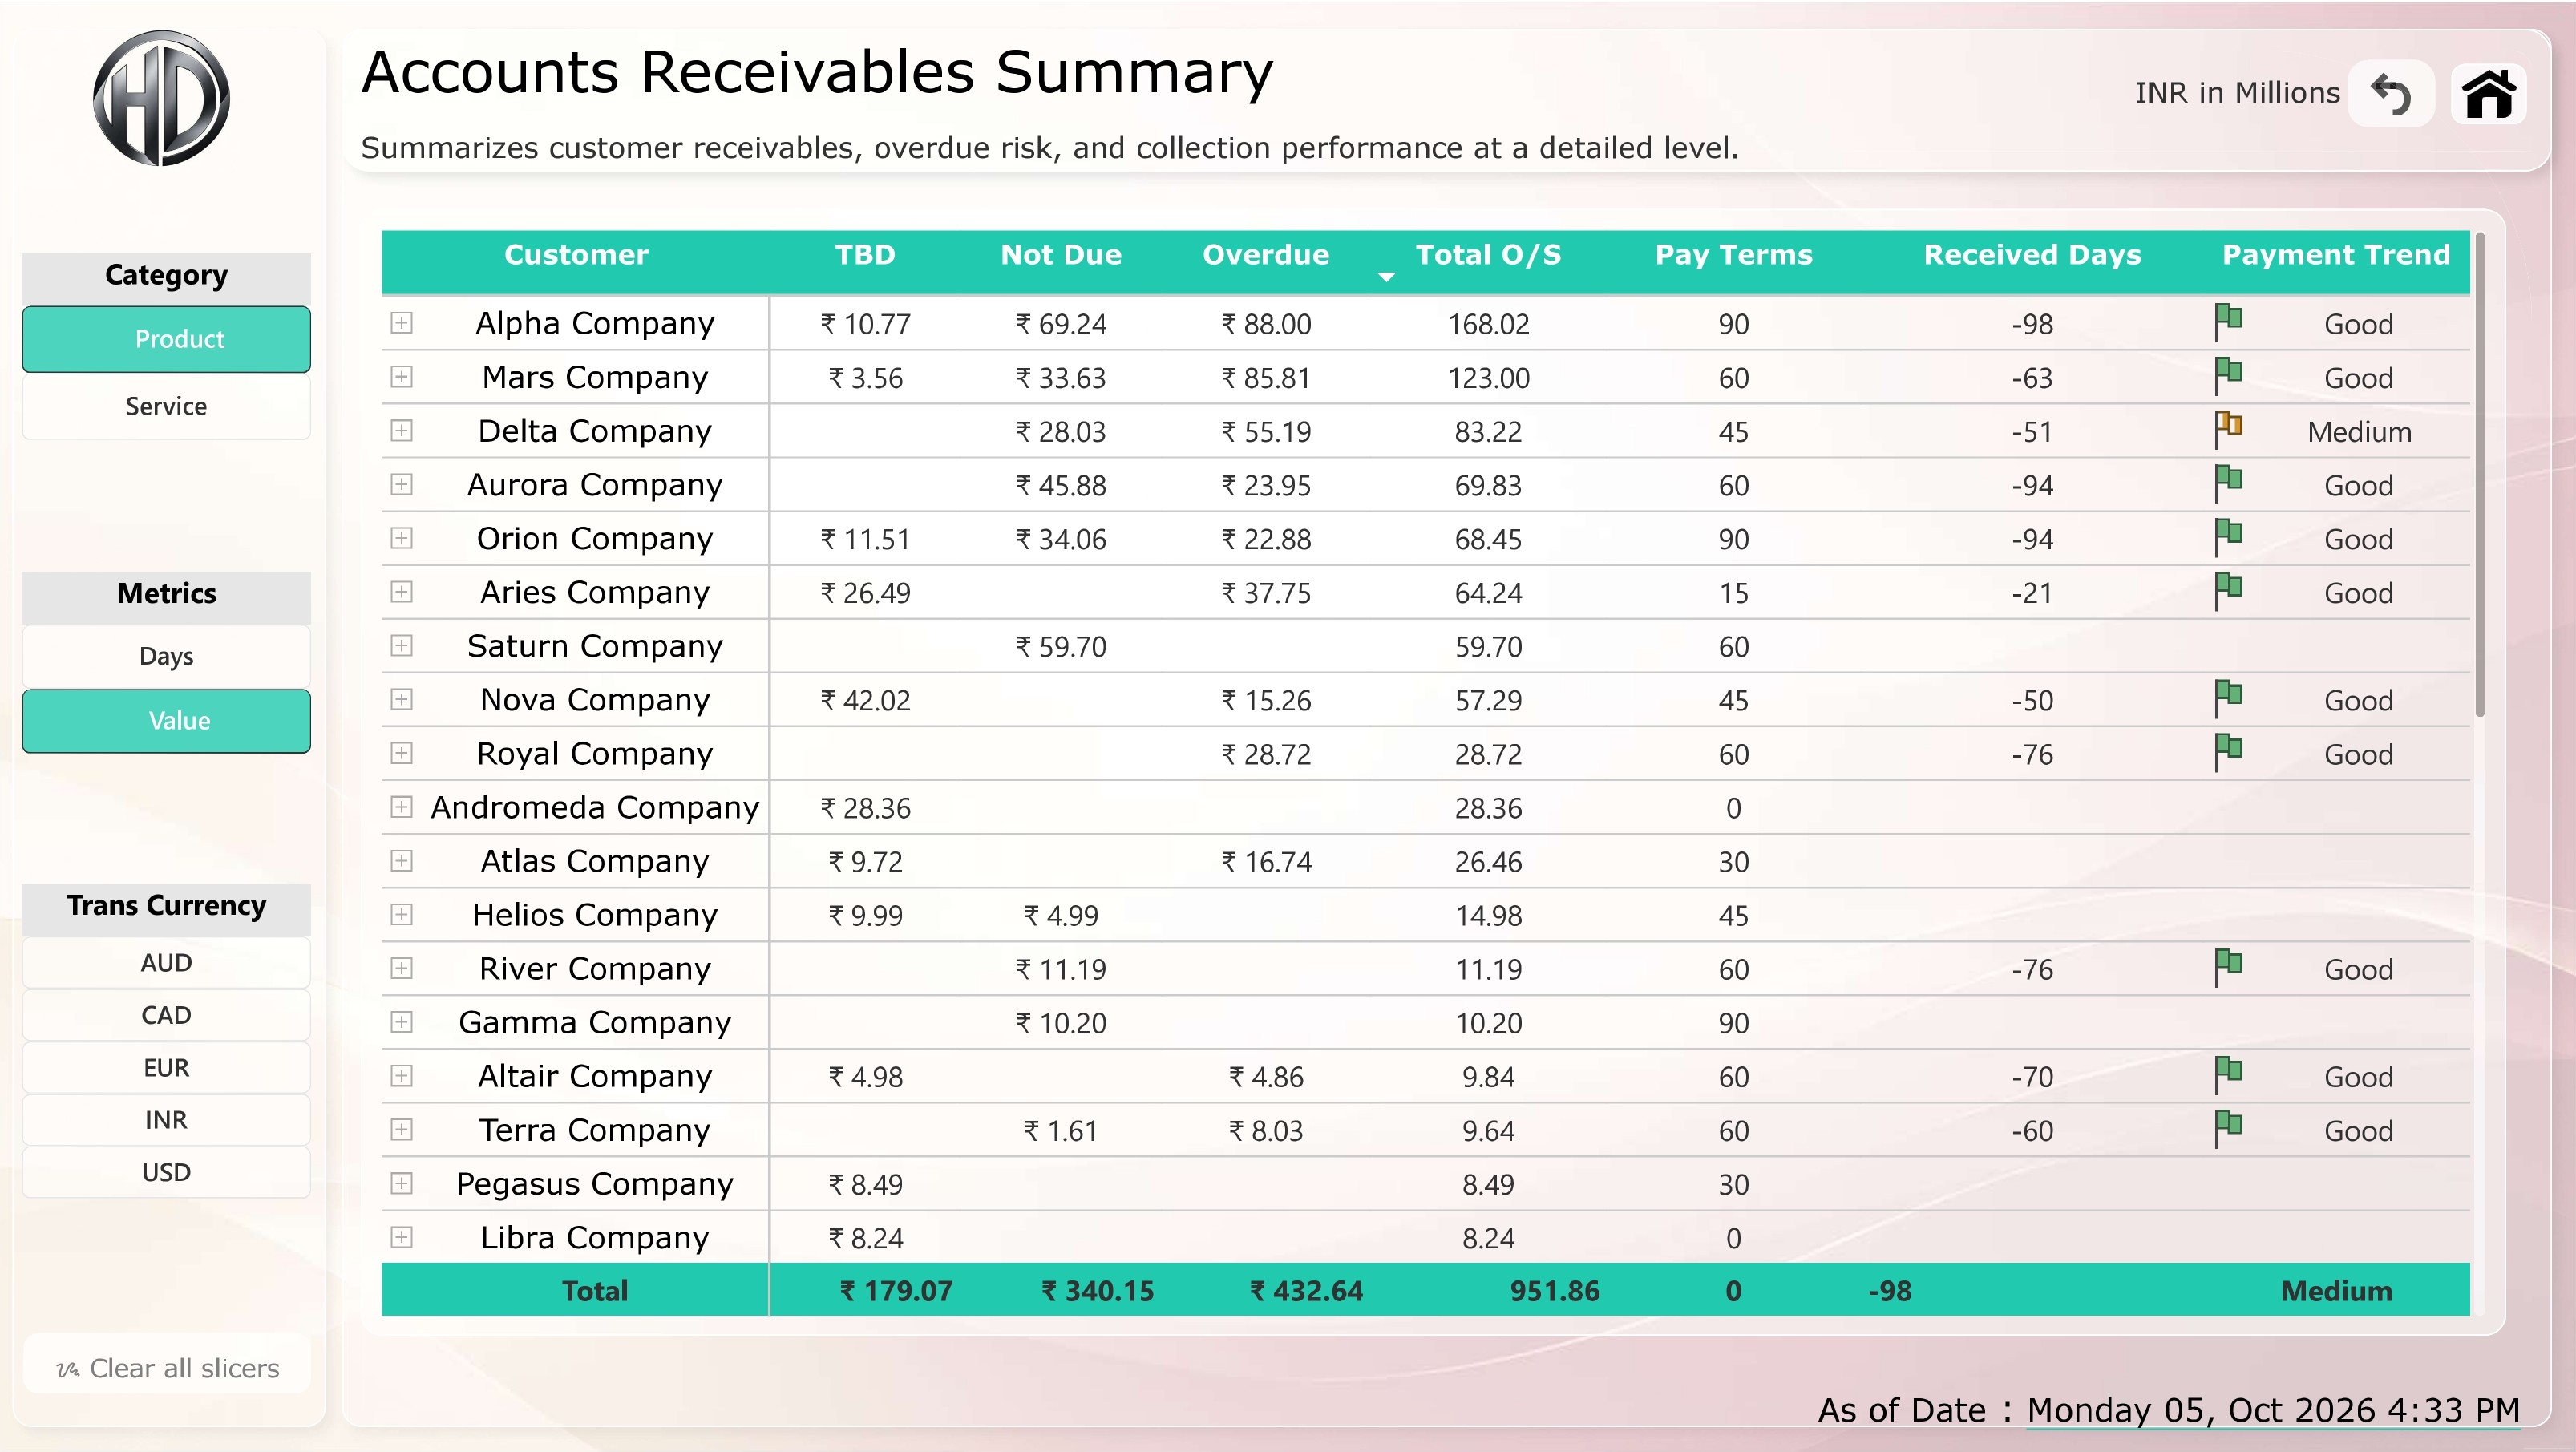

What the dashboard file says about the page in this screenshot:
{"tool":"powerbi","page":{"name":"Customer Outstanding","canvas":[1920,1080],"ordinal":2},"visuals":[{"type":"shape","title":"Head bg","box":[256,20,1644,1040],"z":1000},{"type":"shape","title":"Head bg","box":[256,20,1644,106],"z":2000},{"type":"shape","box":[11.1,20.3,232.7,1039.6],"z":2500},{"type":"textbox","box":[270,24,1330,130],"z":3000},{"type":"image","box":[1809.5,30.9,86,75],"z":4000},{"type":"actionButton","box":[1747.5,42.9,65,50],"z":5000},{"type":"textbox","box":[1575.5,34.9,188,54],"z":6000},{"type":"textbox","box":[1354,1010,536,54],"z":7000},{"type":"pivotTable","title":"Top 10 Customers by Over Due Amount","fields":{"Rows":["Customer wise summary.Customer Name","Base file.Journal Entry"],"Values":["Receivables Aging Measure.Total_TBD","Receivables Aging Measure.Total_Not Due","Receivables Aging Measure.Total_Overdue","Receivables Aging Measure.Total Receivables","Min(Base file.Credit Period)","Max(Base file.Actual Received Days)","Max(Base file.Collection Status)"]},"box":[269.6,153.8,1596.1,837.9],"z":8000},{"type":"image","box":[0,0,244,141.2],"z":9000},{"type":"advancedSlicerVisual","fields":{"Values":["MetricsSwitch.Measure"]},"box":[18.4,423.6,215,136],"z":10000},{"type":"advancedSlicerVisual","fields":{"Values":["Base file.Category"]},"box":[18.4,187.1,215,140],"z":11000},{"type":"advancedSlicerVisual","fields":{"Values":["Base file.Transaction Currency"]},"box":[18.4,656,215,238],"z":12000},{"type":"actionButton","box":[18.6,990.5,214.6,45],"z":13000}]}

Visuals, with their boxes in screenshot pixels (x1, y1, x2, y2), scaled from the page's 1920x1080 canvas onto the 2576x1452 screenshot:
"Head bg" shape: (343, 27, 2550, 1425)
"Head bg" shape: (343, 27, 2550, 169)
shape: (15, 27, 327, 1425)
textbox: (362, 32, 2147, 207)
image: (2428, 42, 2543, 143)
actionButton: (2344, 58, 2432, 125)
textbox: (2114, 47, 2366, 119)
textbox: (1817, 1358, 2536, 1430)
"Top 10 Customers by Over Due Amount" pivotTable: (362, 207, 2503, 1333)
image: (0, 0, 327, 190)
advancedSlicerVisual - MetricsSwitch.Measure: (25, 569, 313, 752)
advancedSlicerVisual - Base file.Category: (25, 252, 313, 439)
advancedSlicerVisual - Base file.Transaction Currency: (25, 882, 313, 1202)
actionButton: (25, 1332, 313, 1392)
